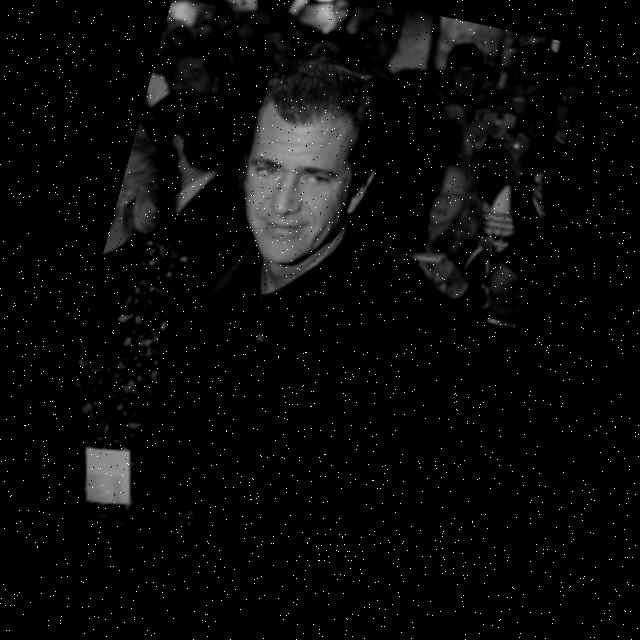face: (212, 79, 398, 284)
